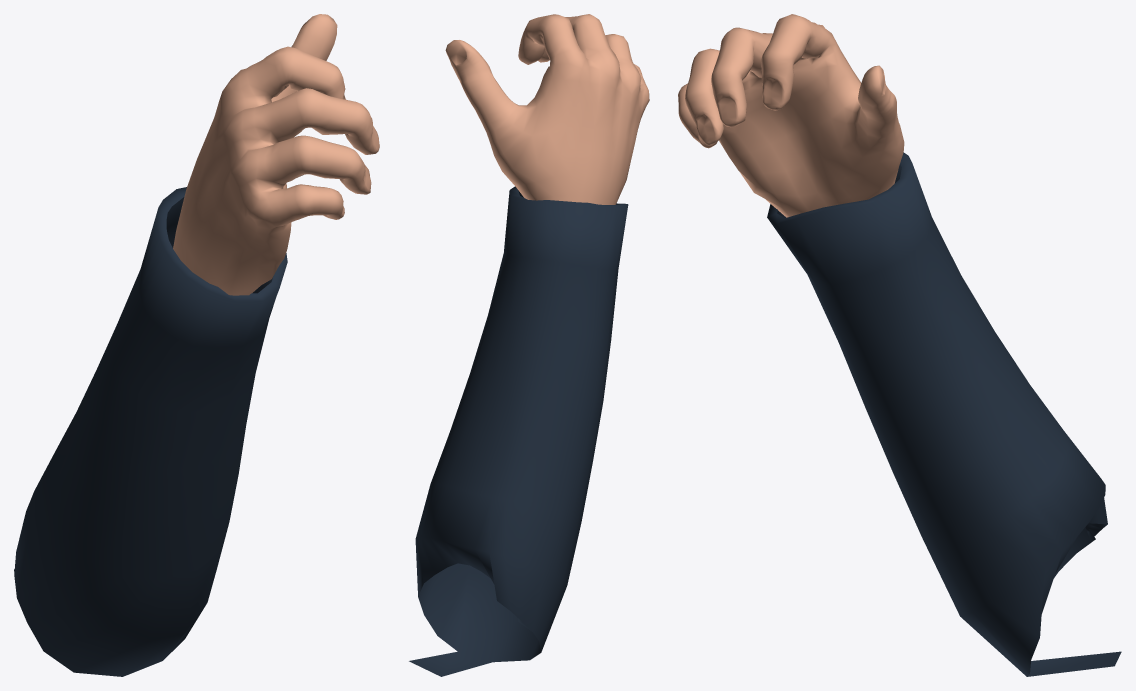
The model's file is hand-grip.glb.
3 views of the same model, side by side, from view 1: azimuth 30°, elevation 25°; view 2: azimuth 150°, elevation 25°; view 3: azimuth 270°, elevation 25° (orthographic). The views are drawn at different scales.
Parts seen in each view (by area): view 1: Player grip clothes, Player grip skin; view 2: Player grip clothes, Player grip skin; view 3: Player grip clothes, Player grip skin.
Boxes of the visible parts, <box> form: Player grip clothes: <box>14,187,287,676</box>; Player grip skin: <box>173,14,379,295</box>; Player grip clothes: <box>409,186,628,676</box>; Player grip skin: <box>445,14,649,204</box>; Player grip clothes: <box>767,152,1121,676</box>; Player grip skin: <box>678,14,904,217</box>.
Size of the model in its own units: 0.2203 by 0.6803 by 0.4113.
